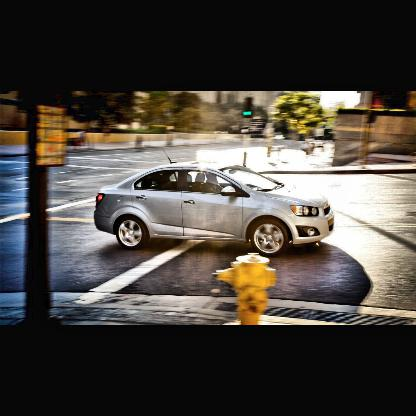Chevrolet Sonic Sedan 2012: (94, 149, 338, 259)
